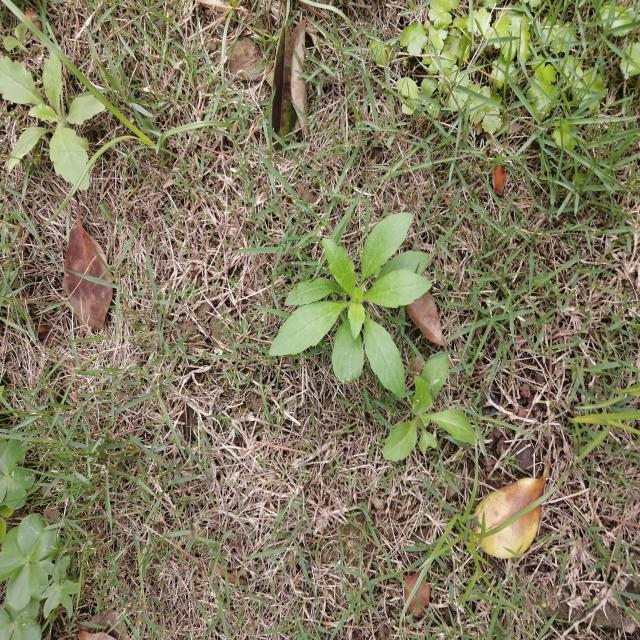horseweed: (282, 205, 445, 392), (0, 56, 118, 193)
